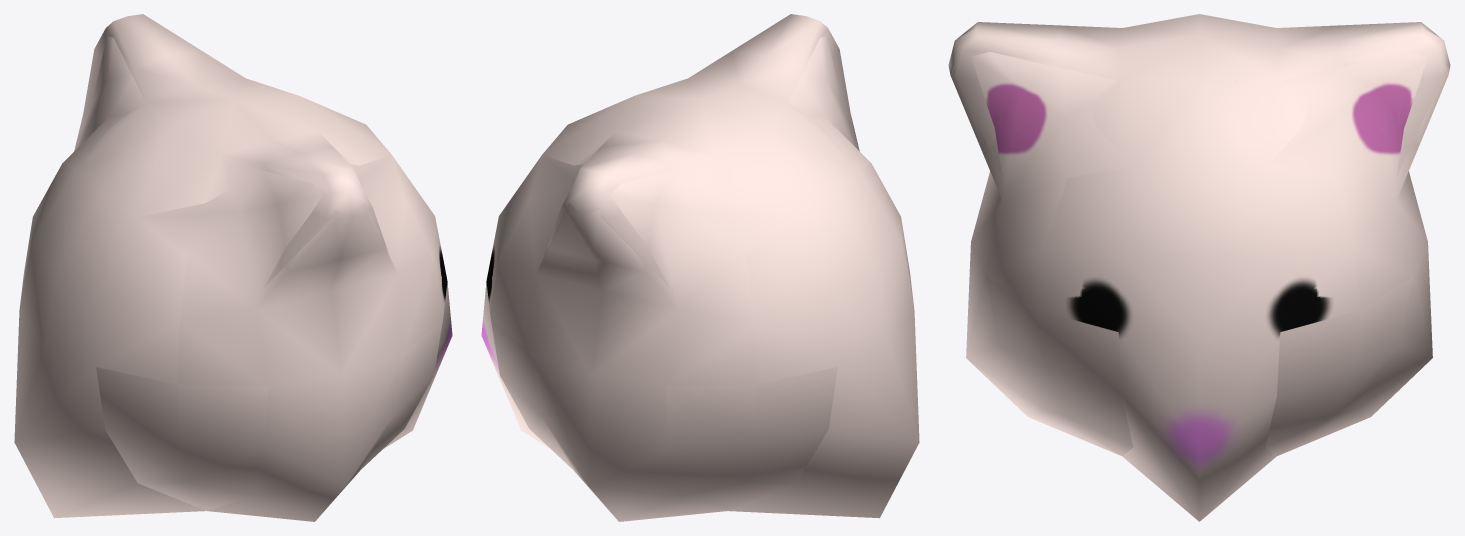
The model's file is cat.glb.
3 views of the same model, side by side, from view 1: azimuth 30°, elevation 25°; view 2: azimuth 150°, elevation 25°; view 3: azimuth 270°, elevation 25° (orthographic). The views are drawn at different scales.
Parts seen in each view (by area): view 1: Roundcube; view 2: Roundcube; view 3: Roundcube.
Boxes of the visible parts, x1,y1,x2,y2 form: Roundcube: [14, 14, 452, 521]; Roundcube: [481, 14, 919, 521]; Roundcube: [948, 14, 1450, 521].
Bounding box in the file's own units: 1.61 × 1.4 × 1.51.
Materials: 1 (1 with a texture image).
